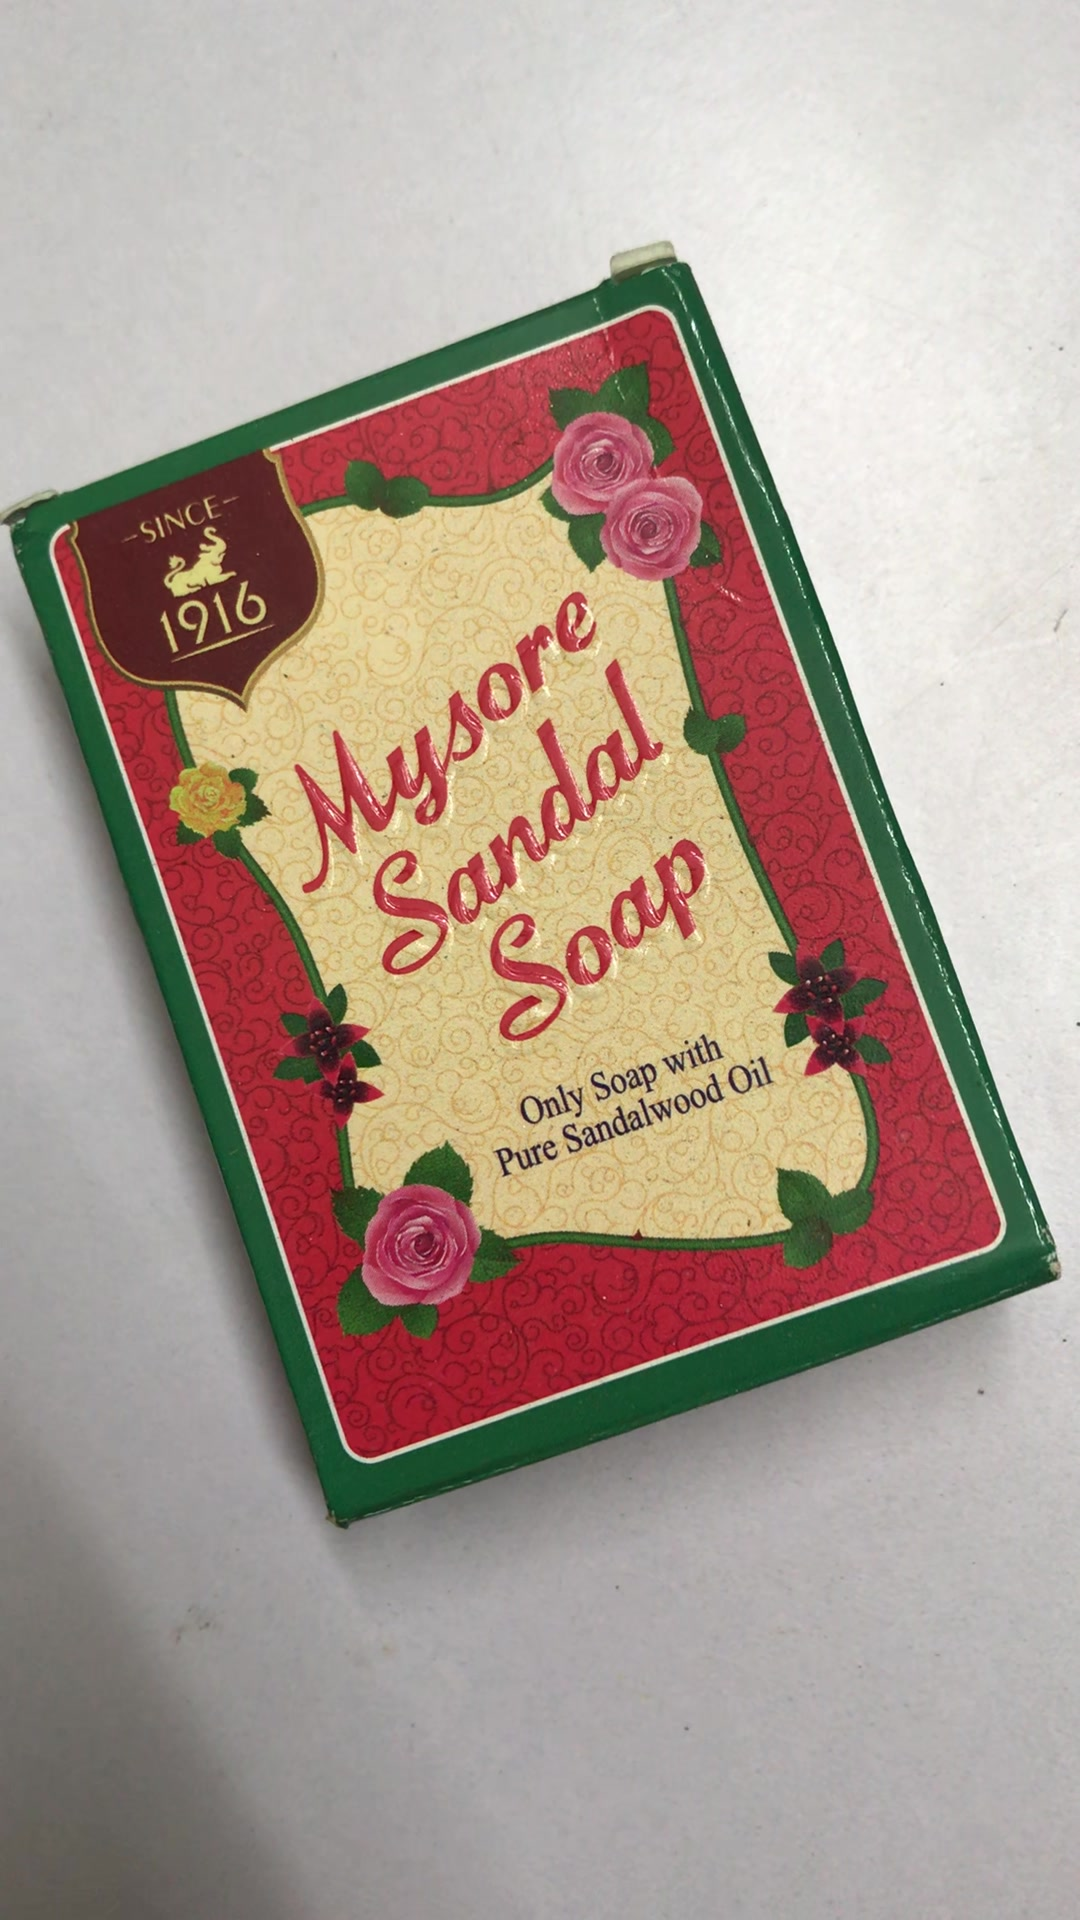mysore sandal soap: (13, 269, 1059, 1523)
